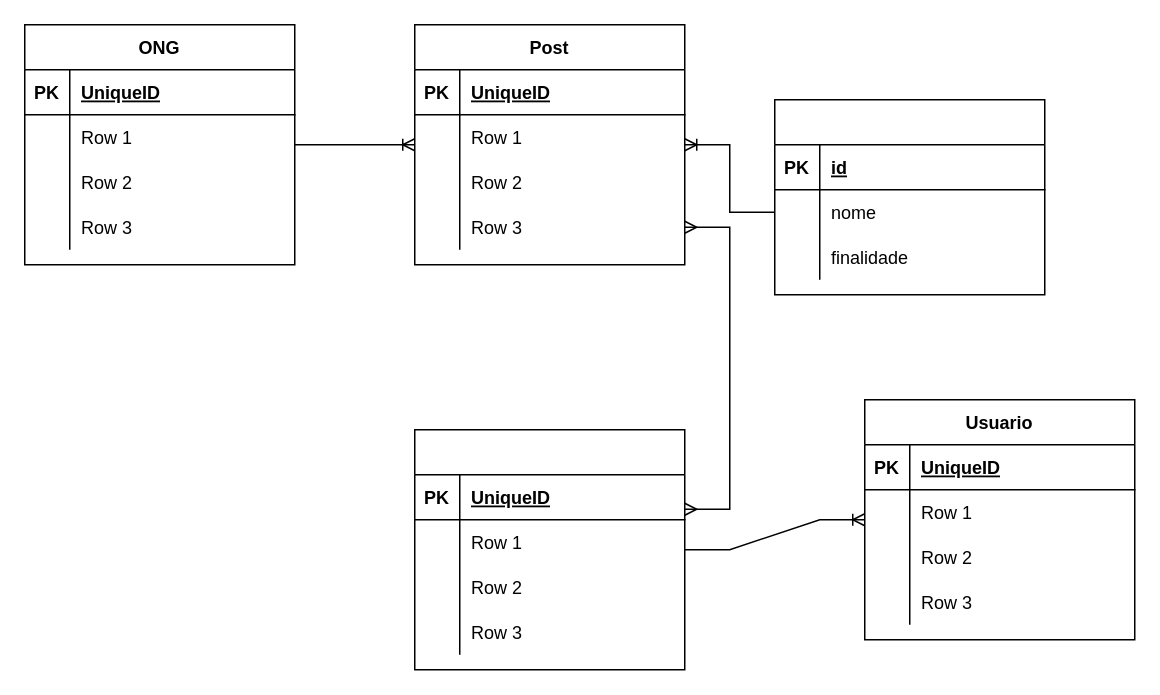
Some shapes in this 1160 by 695 pixel diagram are drawn without their labels. The shapes that lost their labels are listed below. From the top down, each one's box as (x1, y1, x2, y2) in pixels, then its label:
(773, 98, 1045, 295): Tipo_Post
(413, 428, 685, 670): Pagina_Inicial
